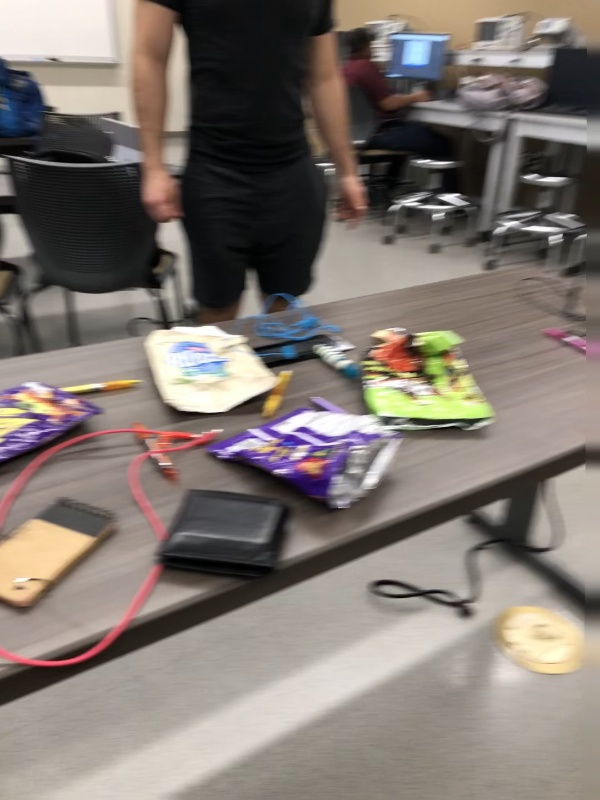bag: (206, 401, 406, 515), (360, 325, 500, 437), (138, 318, 285, 418), (1, 374, 107, 467)
